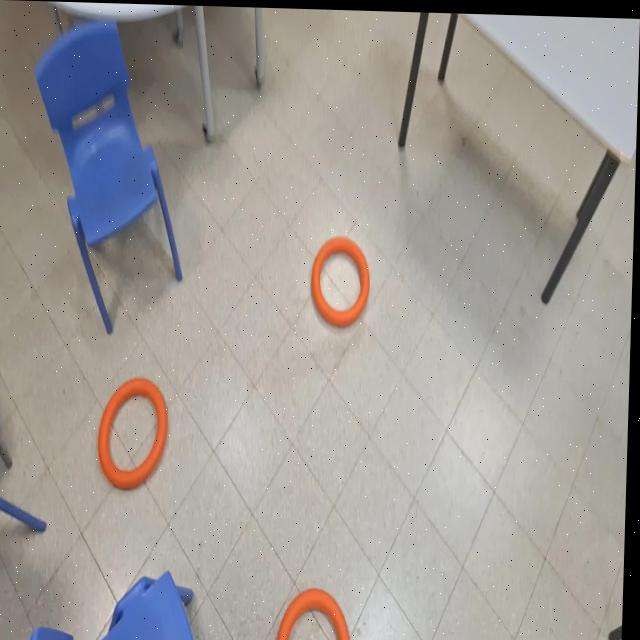note: (99, 375, 173, 492), (312, 234, 372, 329), (278, 584, 356, 640)
